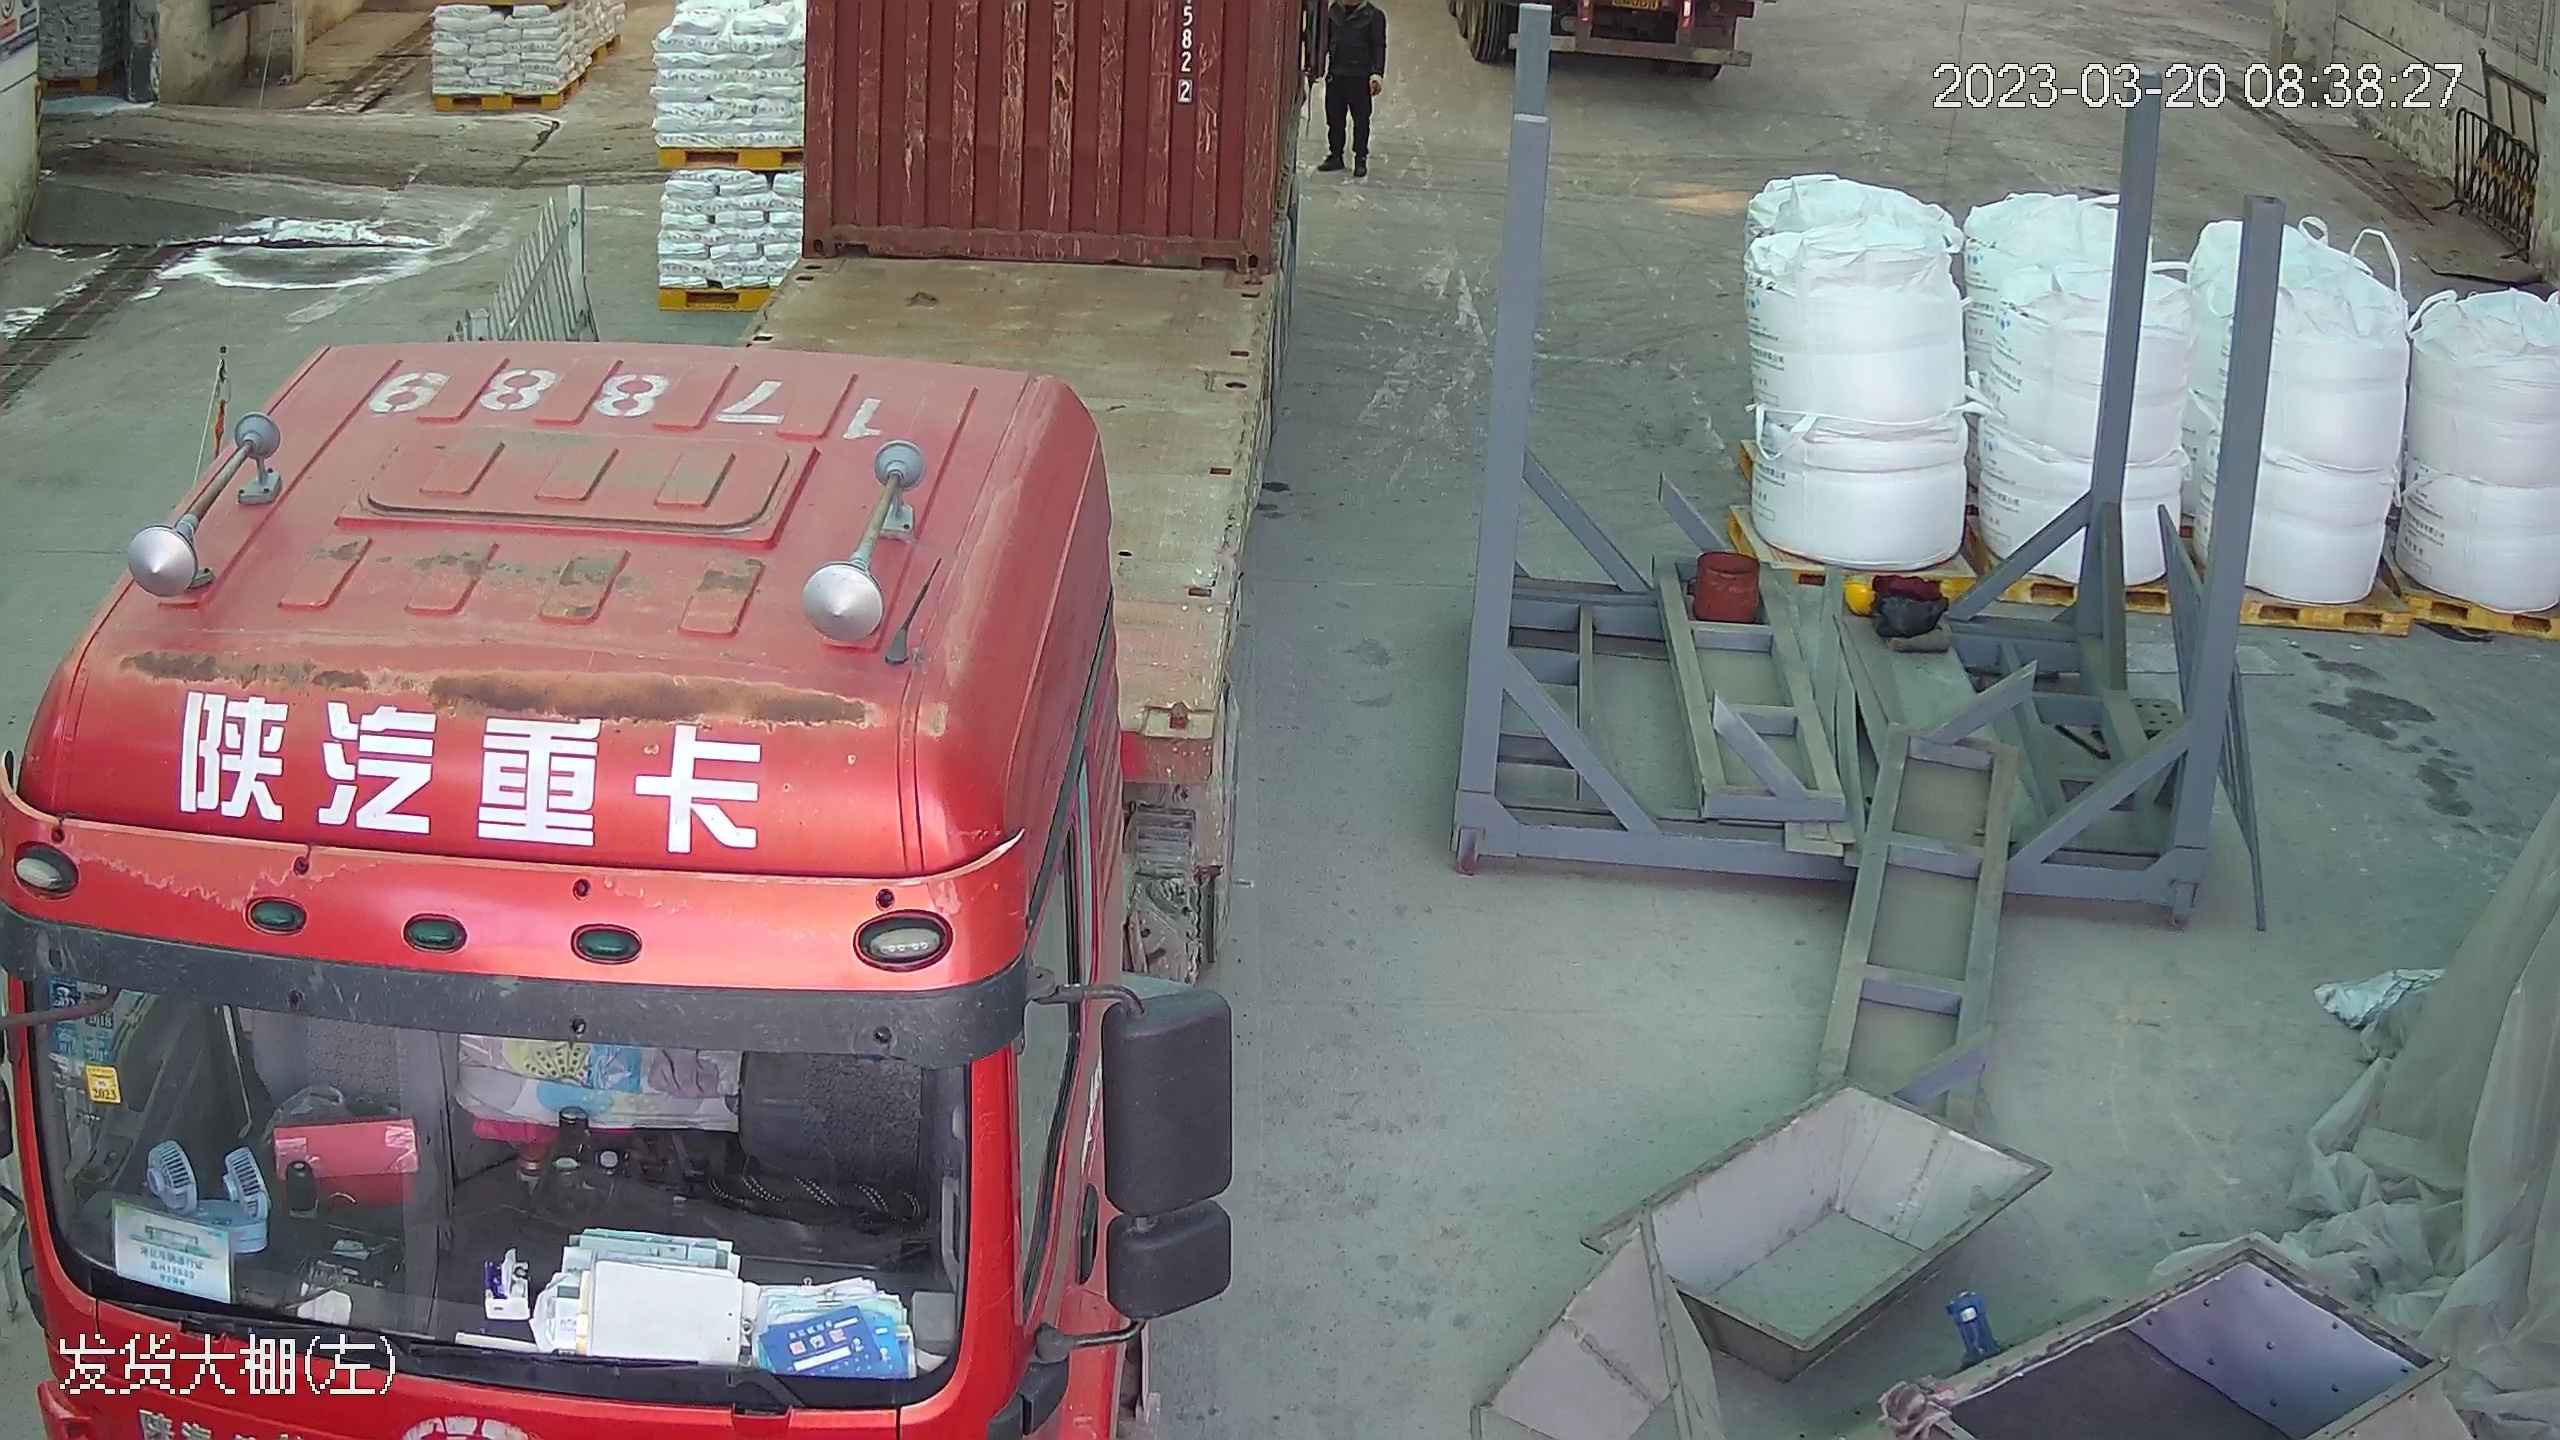people: (1313, 2, 1390, 186)
truck: (0, 0, 1279, 1440)
